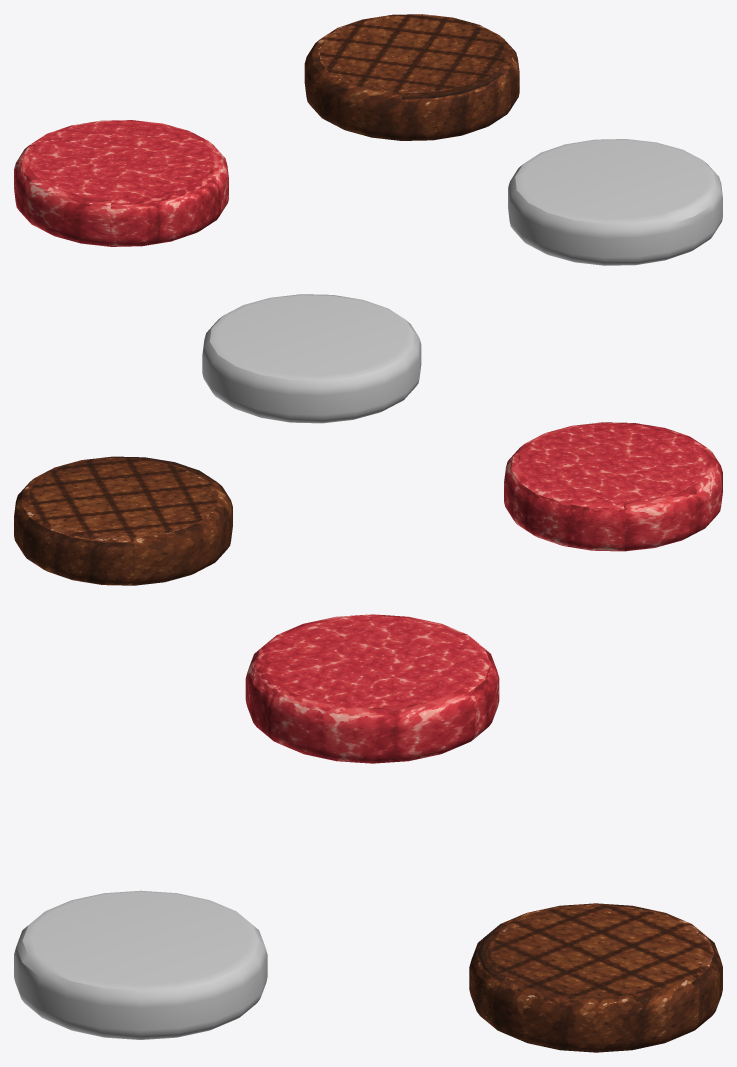
The model's file is carnes.fbx.
3 renders of one model, top to bottom at view 1: azimuth 30°, elevation 25°; view 2: azimuth 150°, elevation 25°; view 3: azimuth 270°, elevation 25°, orthographic. The views are drawn at different scales.
Parts seen in each view (by area): view 1: pCylinder2, pCylinder24, pCylinder20; view 2: pCylinder24, pCylinder20, pCylinder2; view 3: pCylinder20, pCylinder2, pCylinder24.
Boxes of the visible parts, x1=… form: pCylinder2: x1=304, y1=14, x2=519, y2=140; pCylinder24: x1=508, y1=139, x2=722, y2=265; pCylinder20: x1=14, y1=120, x2=228, y2=246; pCylinder24: x1=202, y1=294, x2=421, y2=423; pCylinder20: x1=504, y1=422, x2=722, y2=551; pCylinder2: x1=14, y1=456, x2=232, y2=585; pCylinder20: x1=245, y1=614, x2=499, y2=763; pCylinder2: x1=469, y1=903, x2=722, y2=1052; pCylinder24: x1=14, y1=890, x2=267, y2=1039.
Size of the model in its own units: 4.96 by 0.8418 by 4.46.
